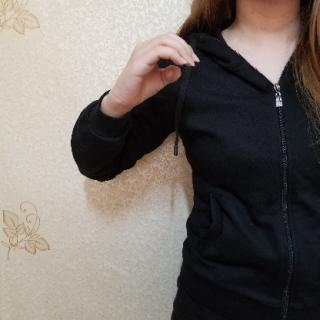JEEM: (110, 24, 202, 114)
